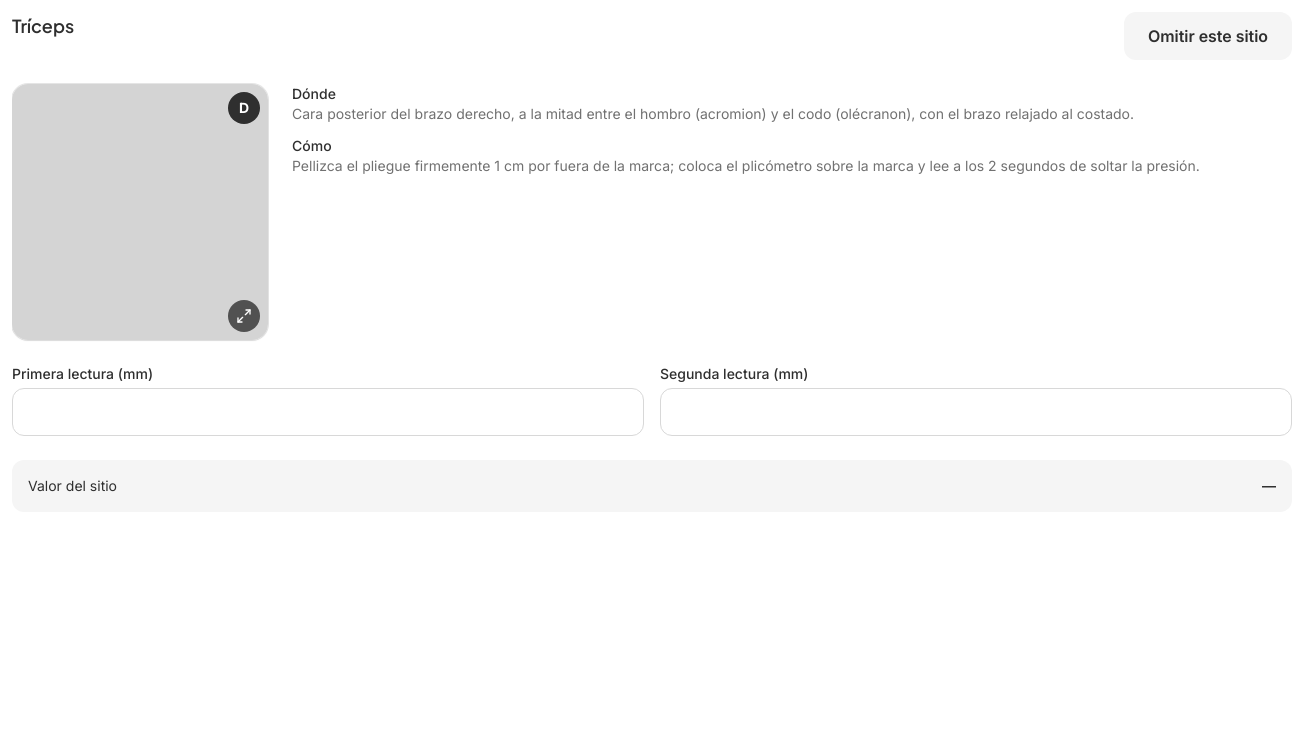
Test: SkinfoldSiteStep › muestra el valor del sitio como mediana de tres lecturas
Type "8.0" into the number field labelled "Primera lectura (mm)" at (328, 412), box [12,388,644,436]
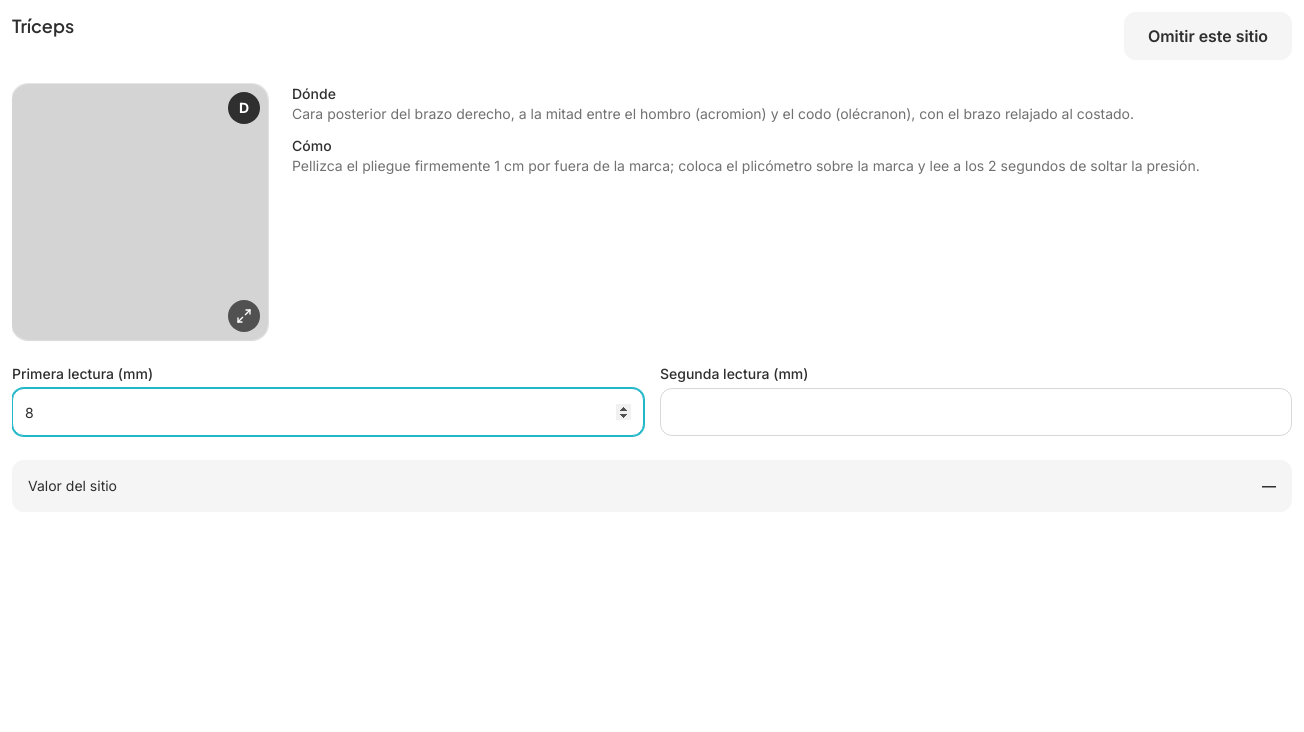
Type "9.5" into the number field labelled "Segunda lectura (mm)" at (976, 412), box [660,388,1292,436]
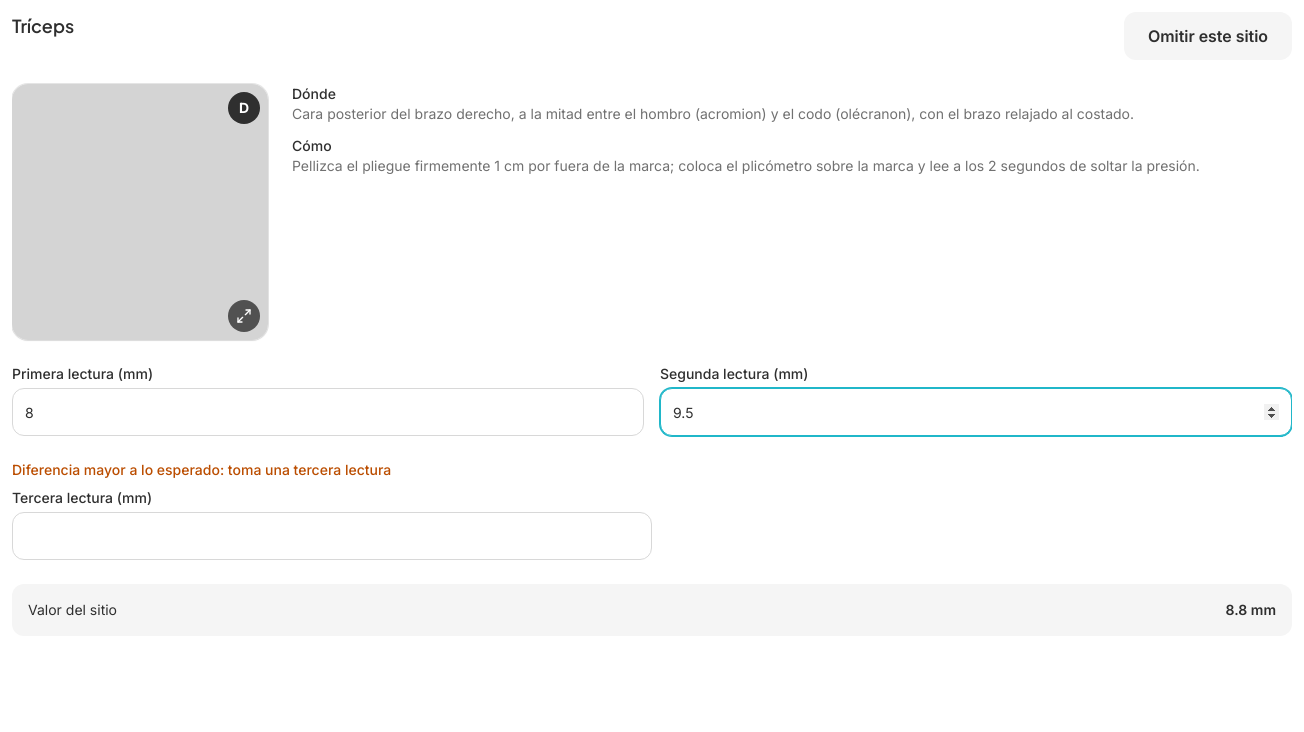
Type "9.0" into the number field labelled "Tercera lectura (mm)" at (332, 536), box [12,512,652,560]
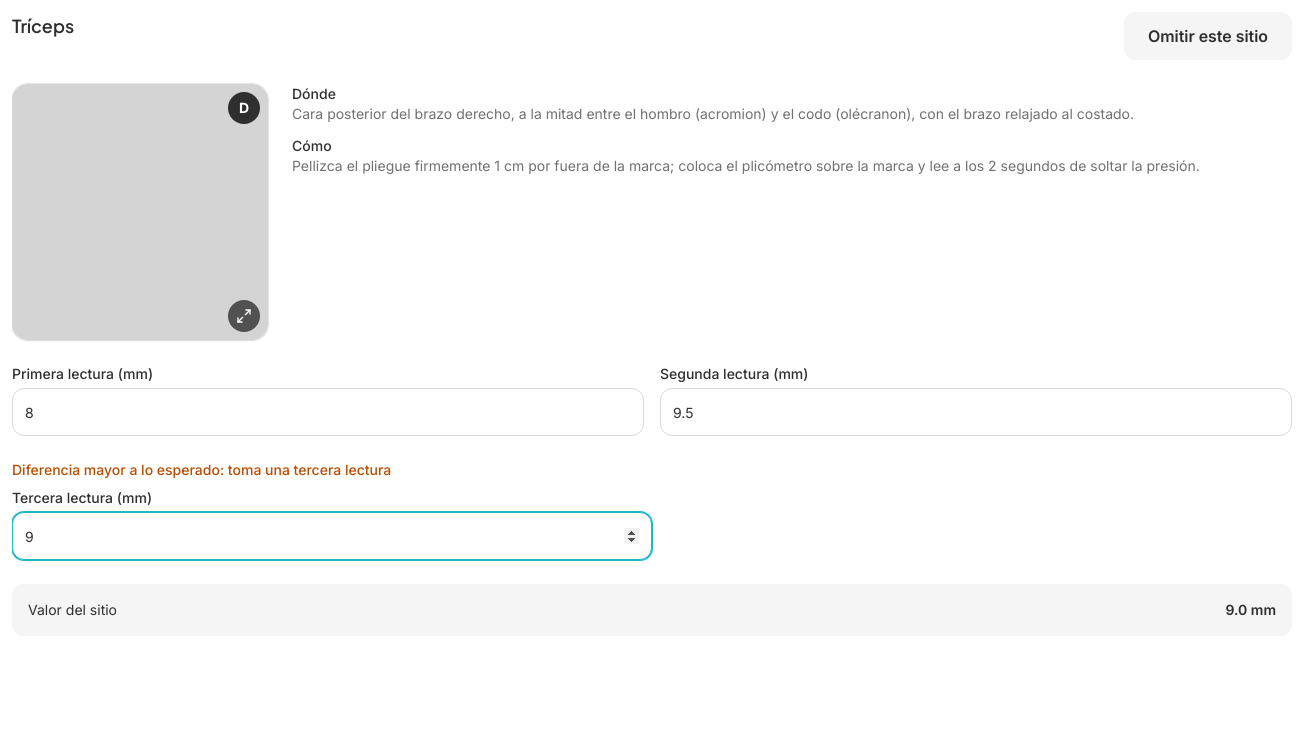
Check: the text "9.0 mm" is shown, box [1225,600,1276,620]
